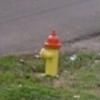a fire hydrant: (40, 29, 62, 77)
